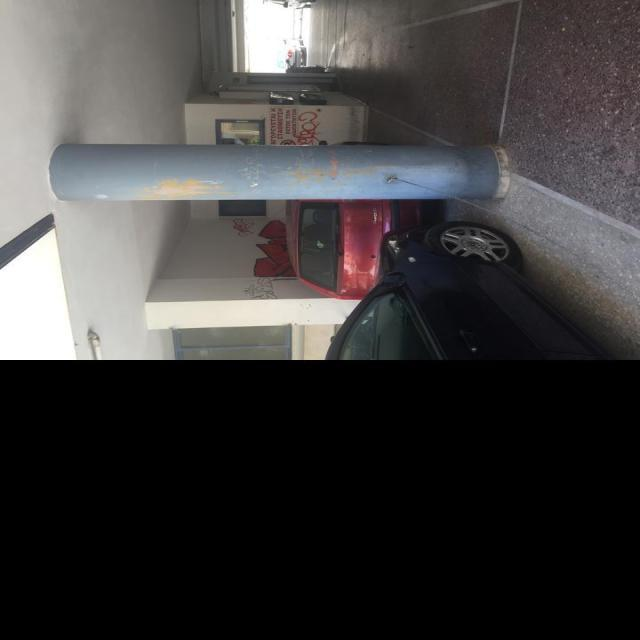nonspitting: (254, 220, 297, 278), (270, 108, 319, 144), (244, 278, 278, 299), (233, 218, 254, 236)
